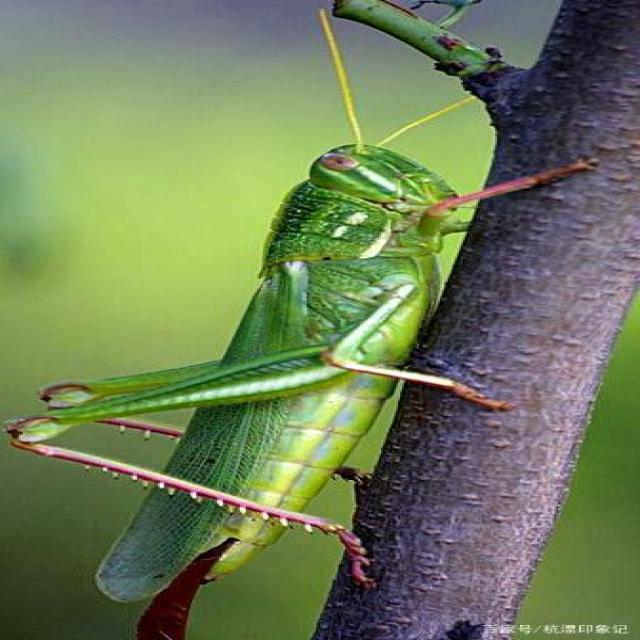ZhaMeng: (41, 79, 558, 600)
